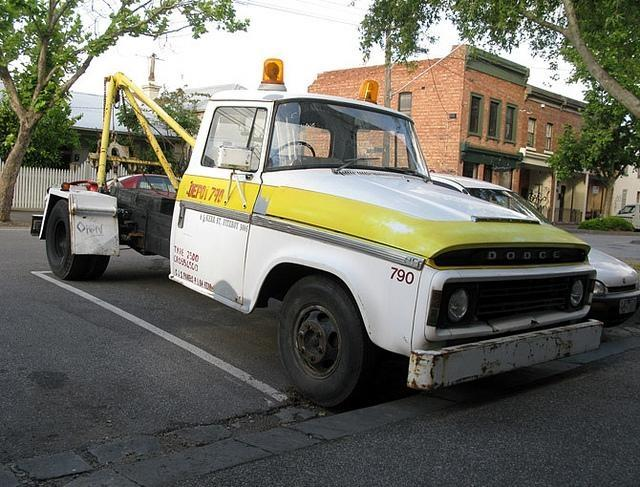car: (589, 248, 640, 329), (105, 172, 182, 196), (615, 202, 640, 230)
truck: (35, 58, 613, 410)
